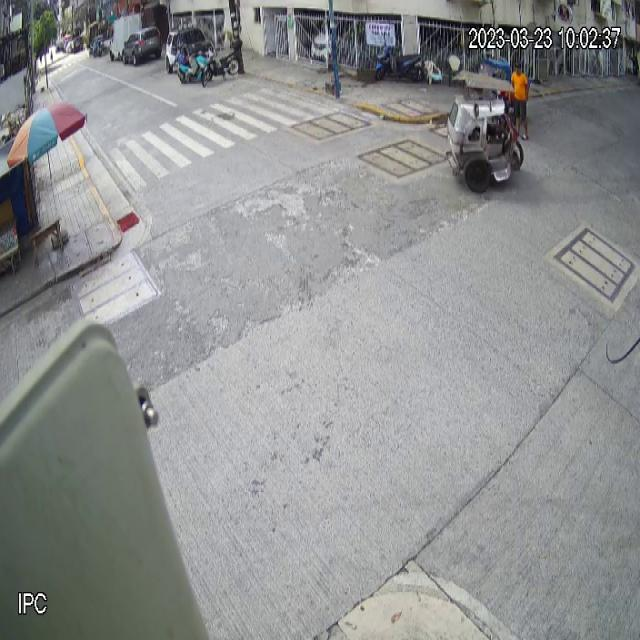Tricycle: (445, 74, 524, 194)
